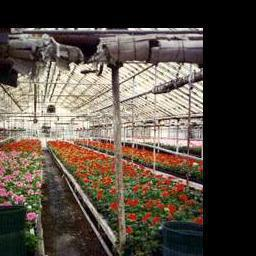Bote de Basura: (160, 218, 200, 256), (0, 203, 26, 256)
